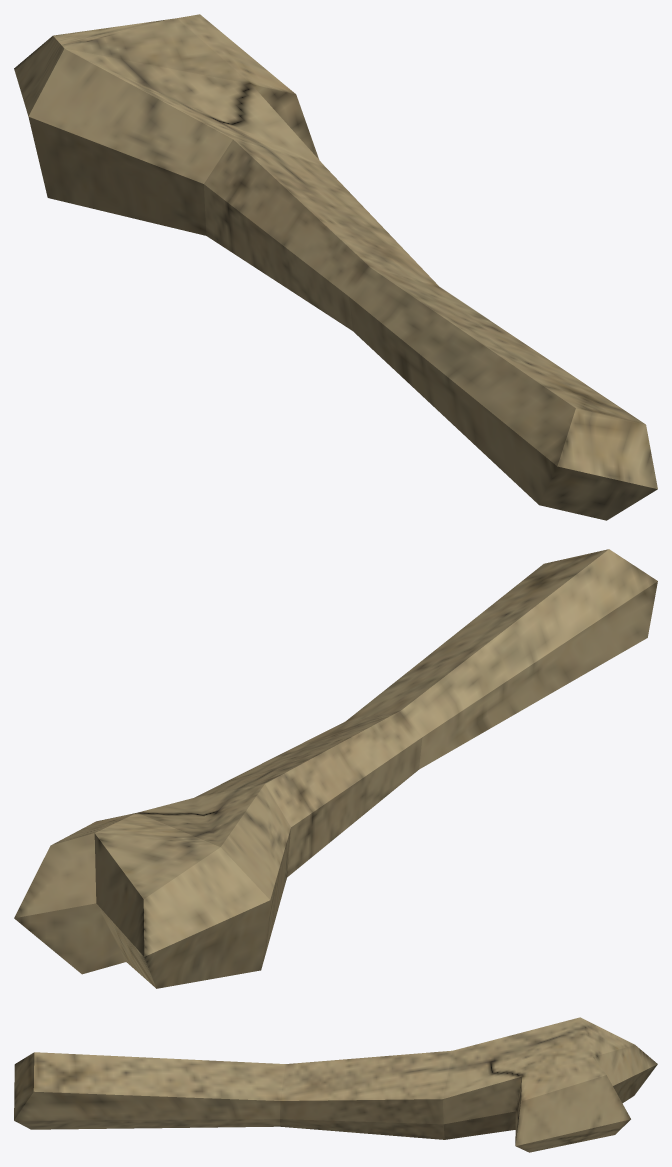
The model's file is Femur.FBX.
The picture shows the model from 3 angles, top to bottom: view 1: azimuth 30°, elevation 25°; view 2: azimuth 150°, elevation 25°; view 3: azimuth 270°, elevation 25°; orthographic projection. The views are drawn at different scales.
Parts seen in each view (by area): view 1: Femur_01; view 2: Femur_01; view 3: Femur_01.
Boxes of the visible parts, bbox=[...] form: Femur_01: bbox=[14, 14, 657, 520]; Femur_01: bbox=[14, 549, 657, 988]; Femur_01: bbox=[14, 1017, 657, 1152].
Bounding box in the file's own units: 5.23 × 3.32 × 20.15.
